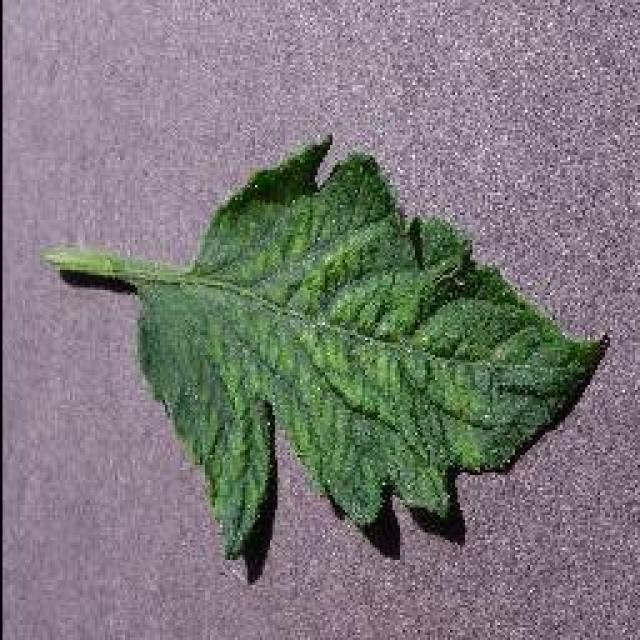Tomato___Tomato_mosaic_virus: (48, 138, 600, 558)
